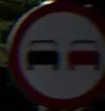No overtake: (15, 6, 100, 95)
